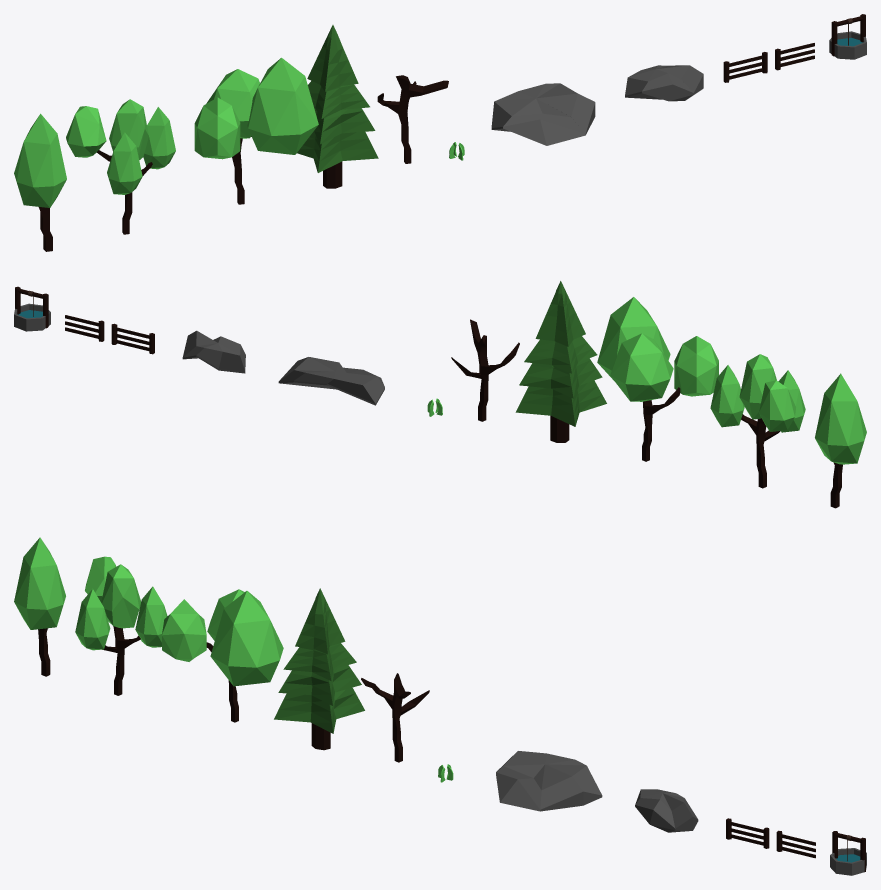
The model's file is Large Rock.FBX.
3 views of the same model, one above another, from view 1: azimuth 30°, elevation 25°; view 2: azimuth 150°, elevation 25°; view 3: azimuth 330°, elevation 25° (orthographic).
Parts seen in each view (by area): view 1: Cone004, GeoSphere002, Sphere001, GeoSphere004, Sphere002, GeoSphere001, GeoSphere003, GeoSphere007, GeoSphere008, GeoSphere006, Box003, GeoSphere005 (+2 smaller); view 2: Cone004, GeoSphere004, GeoSphere003, Sphere001, GeoSphere002, GeoSphere001, Sphere002, GeoSphere005, GeoSphere007, GeoSphere006, Box003, Box014 (+4 smaller); view 3: Cone004, Sphere001, GeoSphere002, GeoSphere004, GeoSphere001, Sphere002, GeoSphere006, GeoSphere008, GeoSphere005, Box003, Box014, GeoSphere007 (+1 smaller).
Boxes of the visible parts, <box> form: Cone004: <box>297,25,378,172</box>; GeoSphere002: <box>247,57,318,154</box>; Sphere001: <box>491,83,595,145</box>; GeoSphere004: <box>14,113,66,207</box>; Sphere002: <box>625,65,703,101</box>; GeoSphere001: <box>194,97,240,159</box>; GeoSphere003: <box>206,69,259,138</box>; GeoSphere007: <box>66,106,106,157</box>; GeoSphere008: <box>107,132,142,194</box>; GeoSphere006: <box>109,99,148,159</box>; Box003: <box>377,75,448,163</box>; GeoSphere005: <box>143,107,175,169</box>; Cone004: <box>515,281,606,426</box>; GeoSphere004: <box>815,373,866,464</box>; GeoSphere003: <box>610,333,673,401</box>; Sphere001: <box>278,357,384,405</box>; GeoSphere002: <box>597,297,670,380</box>; GeoSphere001: <box>674,336,718,396</box>; Sphere002: <box>182,330,245,373</box>; GeoSphere005: <box>710,365,744,427</box>; GeoSphere007: <box>759,380,795,431</box>; GeoSphere006: <box>739,354,776,419</box>; Box003: <box>451,319,519,421</box>; Box014: <box>741,414,780,488</box>; Cone004: <box>274,588,364,733</box>; Sphere001: <box>496,751,602,811</box>; GeoSphere002: <box>210,591,283,686</box>; GeoSphere004: <box>14,537,65,629</box>; GeoSphere001: <box>162,599,206,661</box>; Sphere002: <box>635,789,698,832</box>; GeoSphere006: <box>101,564,140,628</box>; GeoSphere008: <box>75,589,110,650</box>; GeoSphere005: <box>135,586,167,647</box>; Box003: <box>361,673,429,762</box>; Box014: <box>102,626,140,695</box>; GeoSphere007: <box>85,556,116,602</box>.
Size of the model in its own units: 256 by 47.74 by 28.11.
